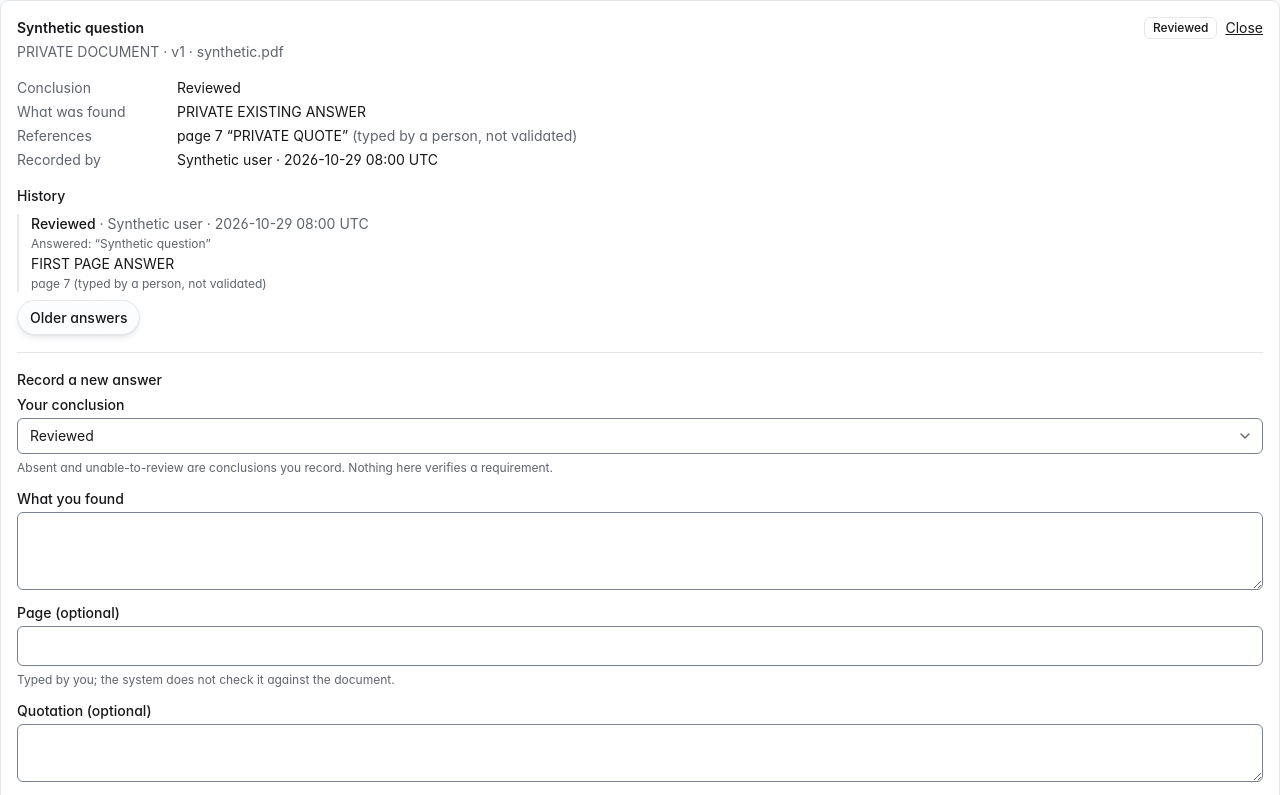
Test: an older-answers control appends the next page and announces the end honestly
Expected: the text "FIRST PAGE ANSWER" is shown, x1=31 y1=255 x2=174 y2=272
Click the button "Older answers" at (79, 318), box x1=17 y1=300 x2=140 y2=336
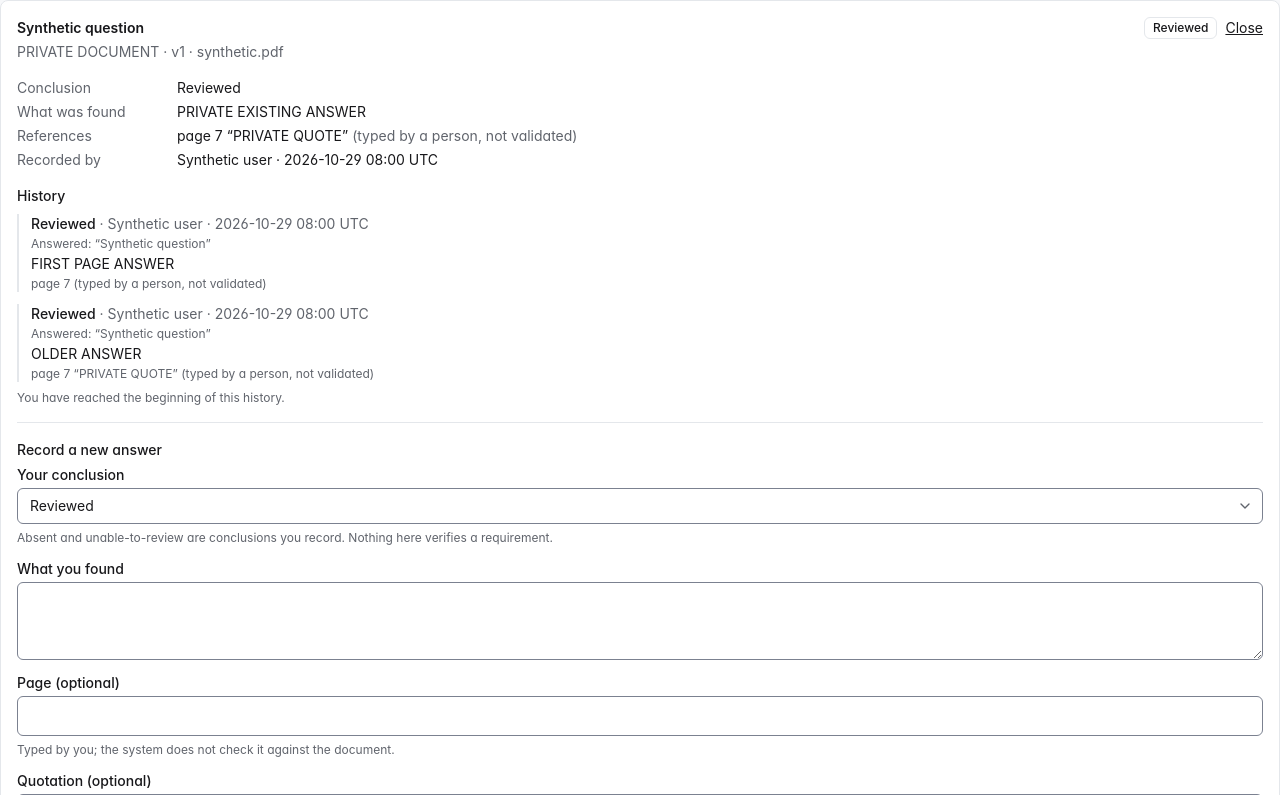
Expected: the text "OLDER ANSWER" is shown, x1=31 y1=345 x2=142 y2=362
Expected: the text "You have reached the beginning of this history." is shown, x1=17 y1=390 x2=285 y2=405
Expected: the button "Older answers" is gone
